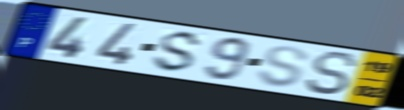4: (92, 21, 139, 67), (45, 14, 89, 61)
9: (202, 36, 252, 82)
S: (303, 49, 360, 97), (150, 30, 206, 75), (255, 44, 310, 89)
